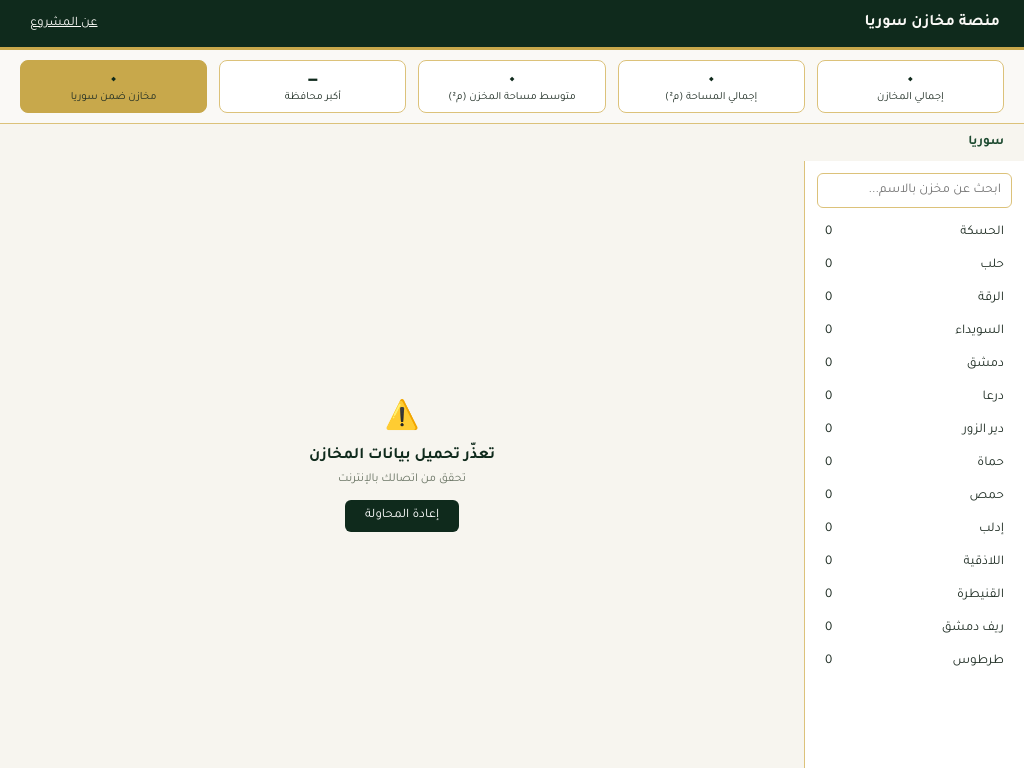
App data loading state › shows an error state with a retry button when loading fails, and retry can succeed
The width and height of the screenshot is (1024, 768).
Expected: the text "تعذّر تحميل بيانات المخازن" is shown, [309,446,495,466]
Click the button "إعادة المحاولة". click: point(402, 516)
box: [345,500,459,532]
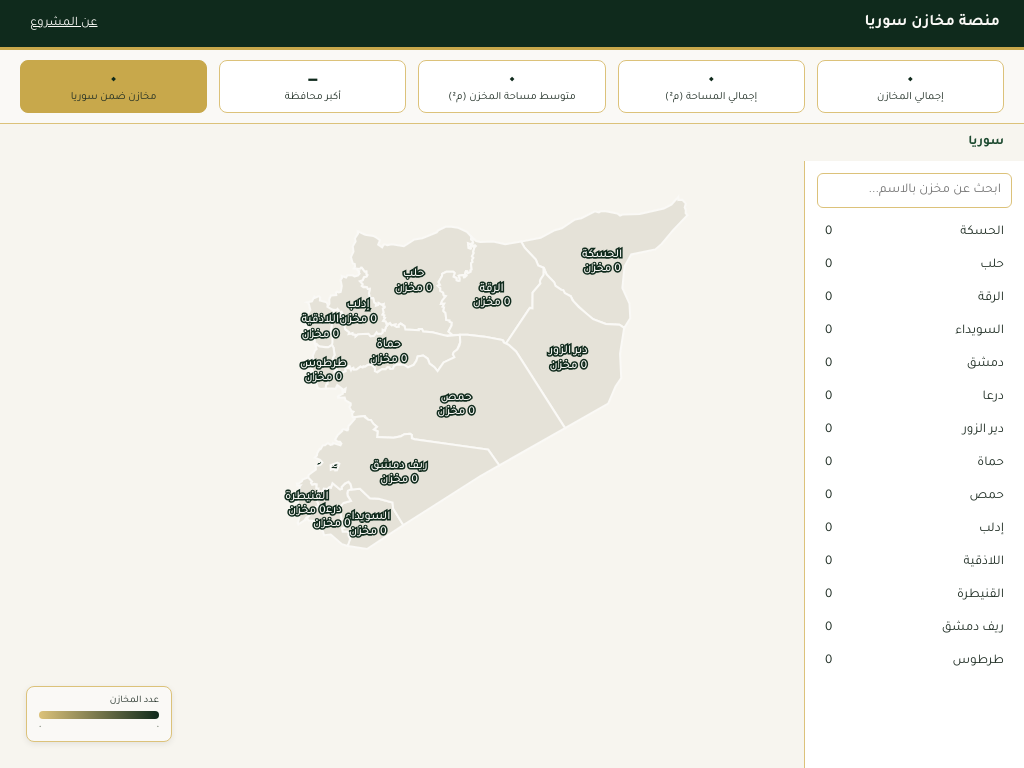
Now the text "تعذّر تحميل بيانات المخازن" is gone
